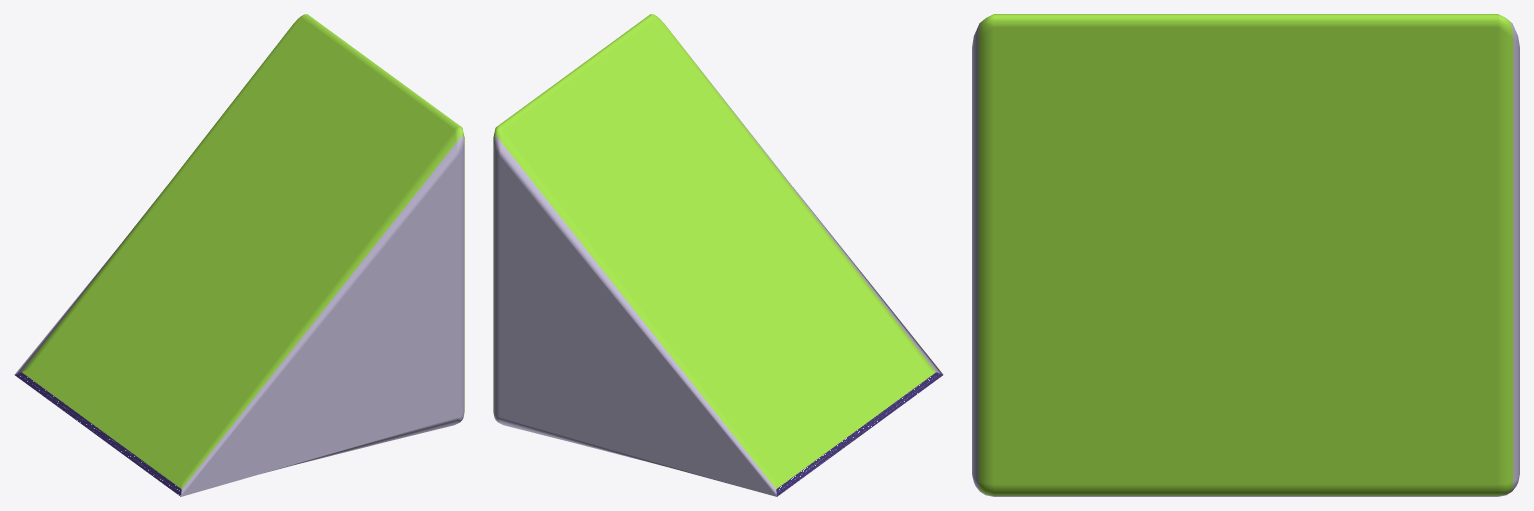
Rendered from ramp_1.glb.
3 renders of one model, left to right at view 1: azimuth 30°, elevation 25°; view 2: azimuth 150°, elevation 25°; view 3: azimuth 270°, elevation 25°, orthographic. The views are drawn at different scales.
Parts seen in each view (by area): view 1: Ramp1; view 2: Ramp1; view 3: Ramp1.
Boxes of the visible parts, x1,y1,x2,y2 form: Ramp1: [14, 14, 464, 496]; Ramp1: [493, 14, 943, 496]; Ramp1: [972, 14, 1519, 496].
Bounding box in the file's own units: 2 × 1.96 × 2.
1 material, 1 textured.
